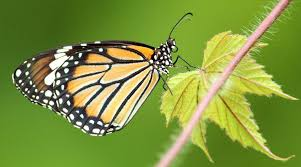butterfly: (13, 18, 181, 130)
flower: (180, 32, 298, 161)
